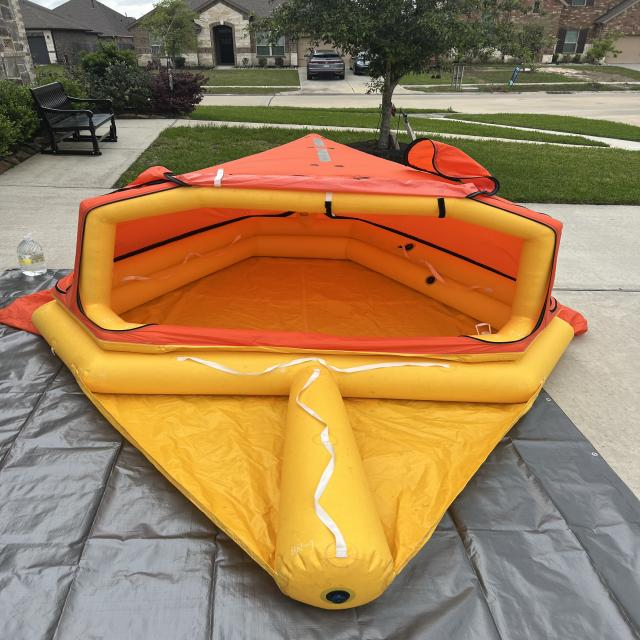Multi-person_life_raft: (0, 130, 588, 612)
